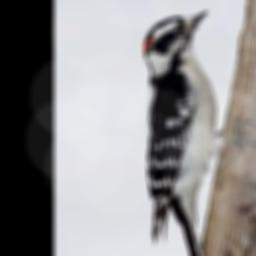Woodpecker: (141, 5, 256, 256)
